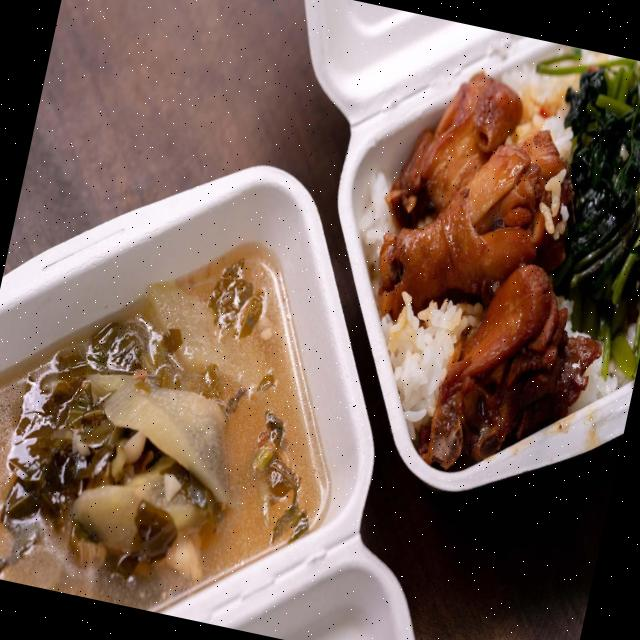styrofoam: (0, 114, 516, 640), (206, 0, 640, 525)
